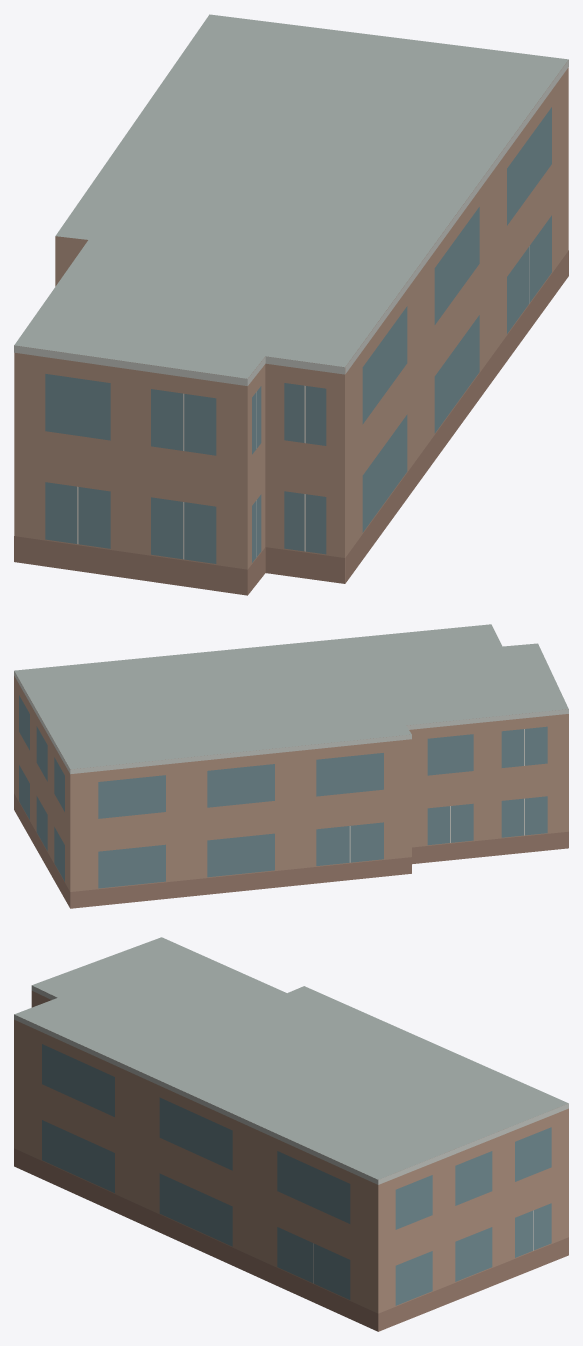
File: survey-upis-32931864.glb
3 renders of one model, top to bottom at view 1: azimuth 30°, elevation 25°; view 2: azimuth 150°, elevation 25°; view 3: azimuth 270°, elevation 25°, orthographic. The views are drawn at different scales.
Visible parts, largest first — view 1: survey-upis-32931864.tmp; view 2: survey-upis-32931864.tmp; view 3: survey-upis-32931864.tmp.
Boxes of the visible parts, box(x1,y1,x2,y2) form: survey-upis-32931864.tmp: box(14, 14, 568, 595); survey-upis-32931864.tmp: box(14, 624, 568, 908); survey-upis-32931864.tmp: box(14, 937, 568, 1331).
Size of the model in its own units: 24.67 by 7.2 by 23.83.
